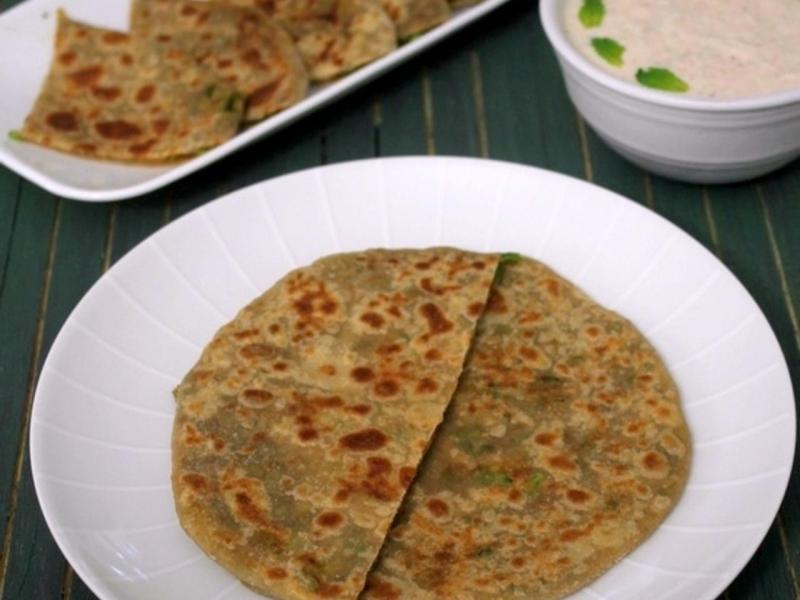aloo_paratha: (171, 244, 667, 600), (1, 1, 480, 164)
